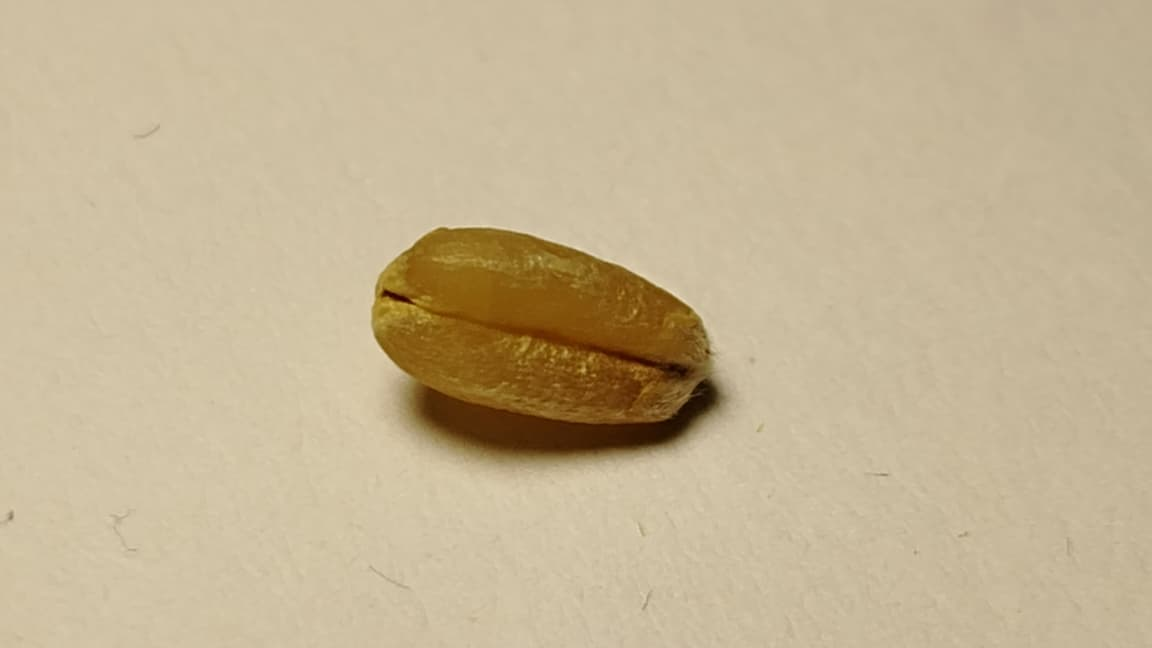healthy: (373, 228, 708, 423)
